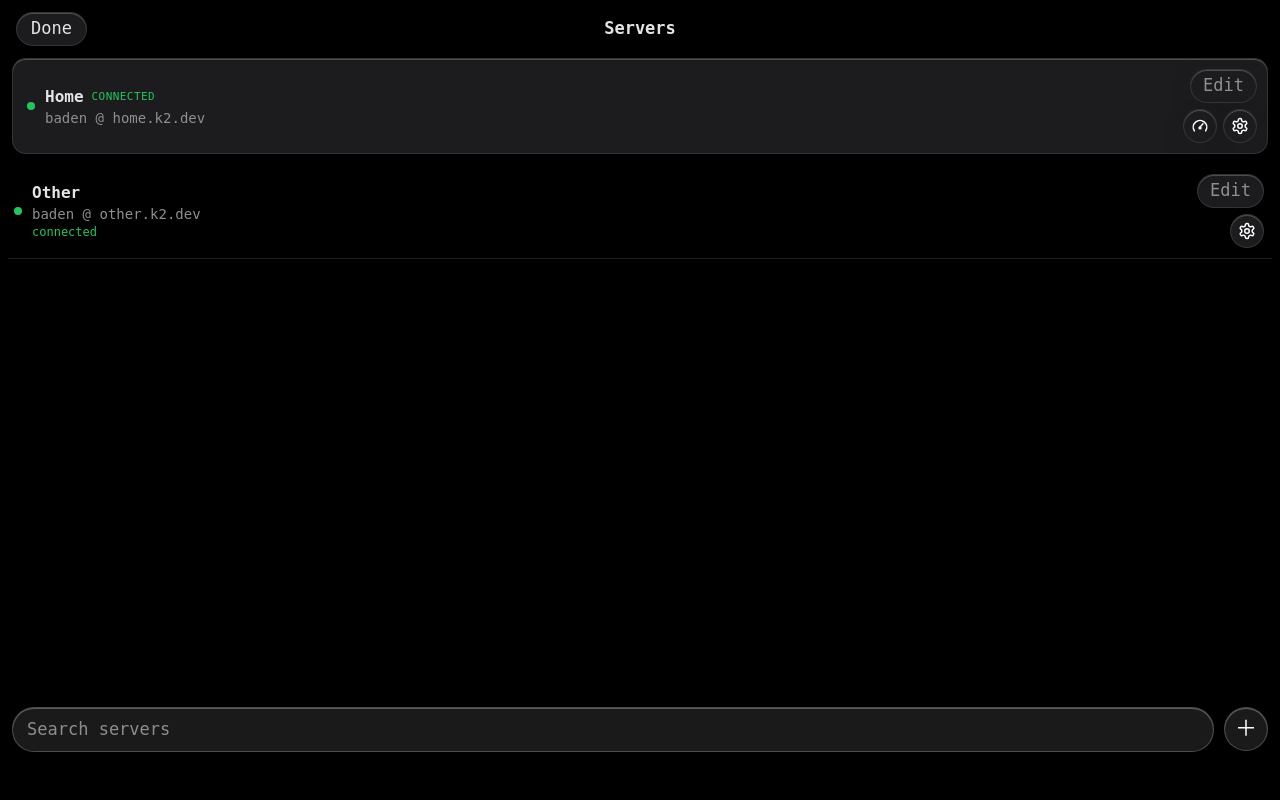
Test: OverlayServers › shows an empty state when no server matches
Type "nothing-here" into the search field with placeholder "Search servers". click: [613, 729]
box: [27,716,1199,742]
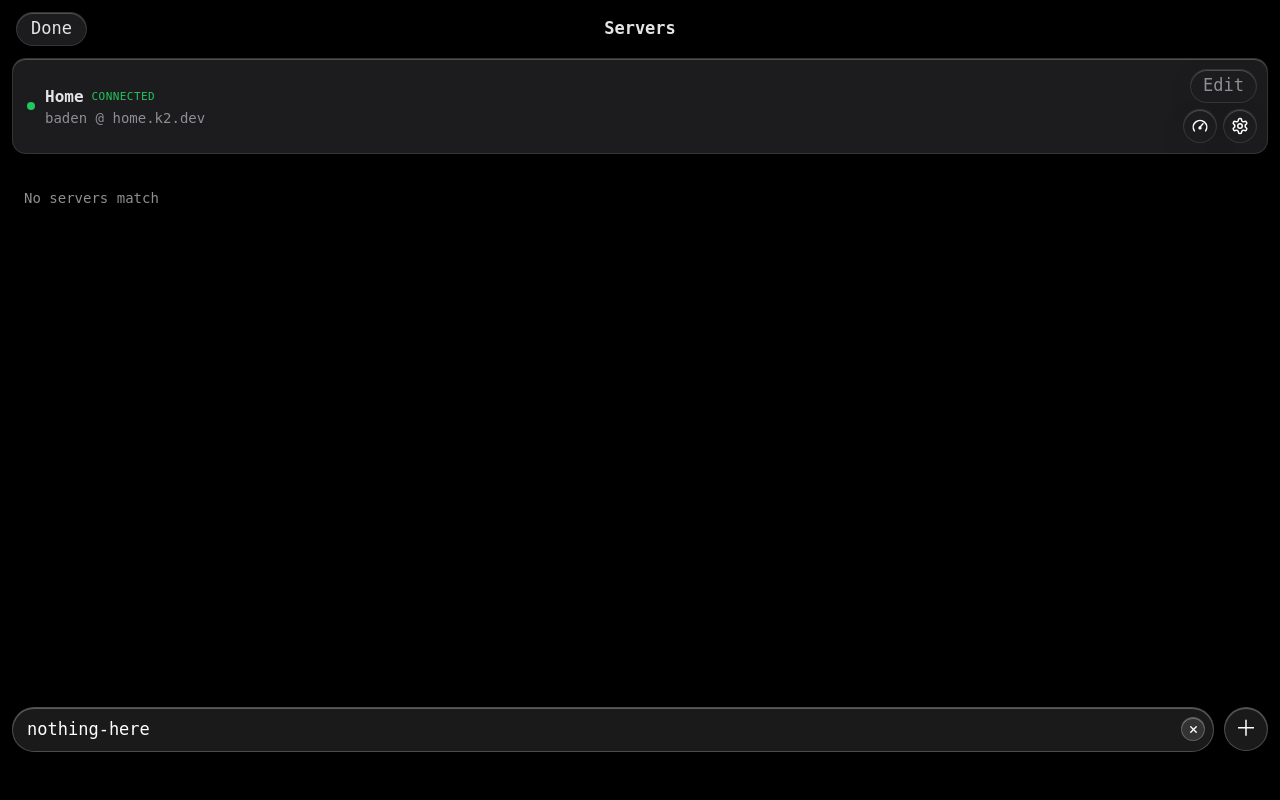
Expected: no buttons with test id "overlay-server-row" are shown
Expected: the text "No servers match" is shown, [24,190,159,206]
